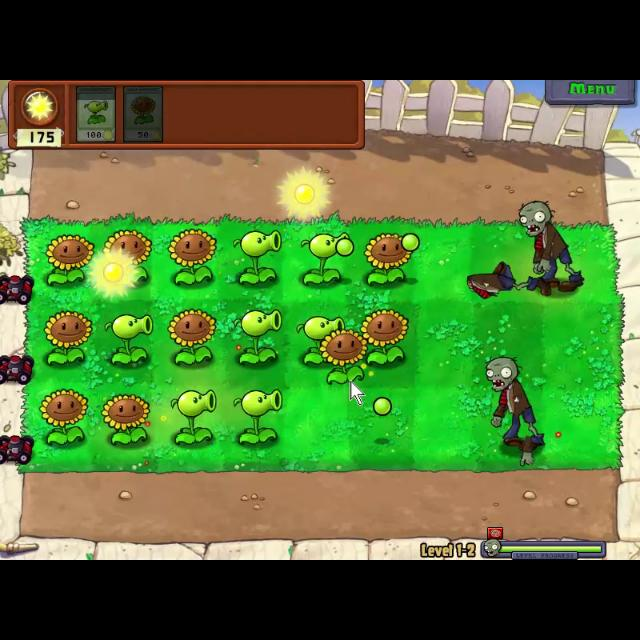Garden: (16, 213, 624, 473)
Menu Button: (542, 80, 636, 106)
Mower: (0, 268, 32, 308), (0, 348, 32, 388), (1, 433, 32, 465)
Peashooter: (76, 84, 116, 144)
Peashooter Seed: (164, 387, 224, 451), (103, 305, 159, 369), (231, 388, 291, 444), (229, 226, 281, 290), (232, 304, 282, 366), (299, 232, 355, 284), (296, 308, 344, 364)
Seed Panel: (6, 80, 368, 152)
Sun: (276, 163, 328, 224), (85, 246, 138, 300)
Sunflower: (122, 84, 164, 146)
Sunflower Seed: (167, 225, 219, 288), (360, 308, 414, 368), (101, 226, 153, 286), (362, 229, 412, 291), (39, 388, 91, 446), (99, 392, 151, 448), (42, 228, 92, 286), (167, 308, 220, 362), (42, 308, 90, 366), (322, 330, 370, 388)
Zombie: (519, 198, 585, 294), (481, 357, 547, 449)
